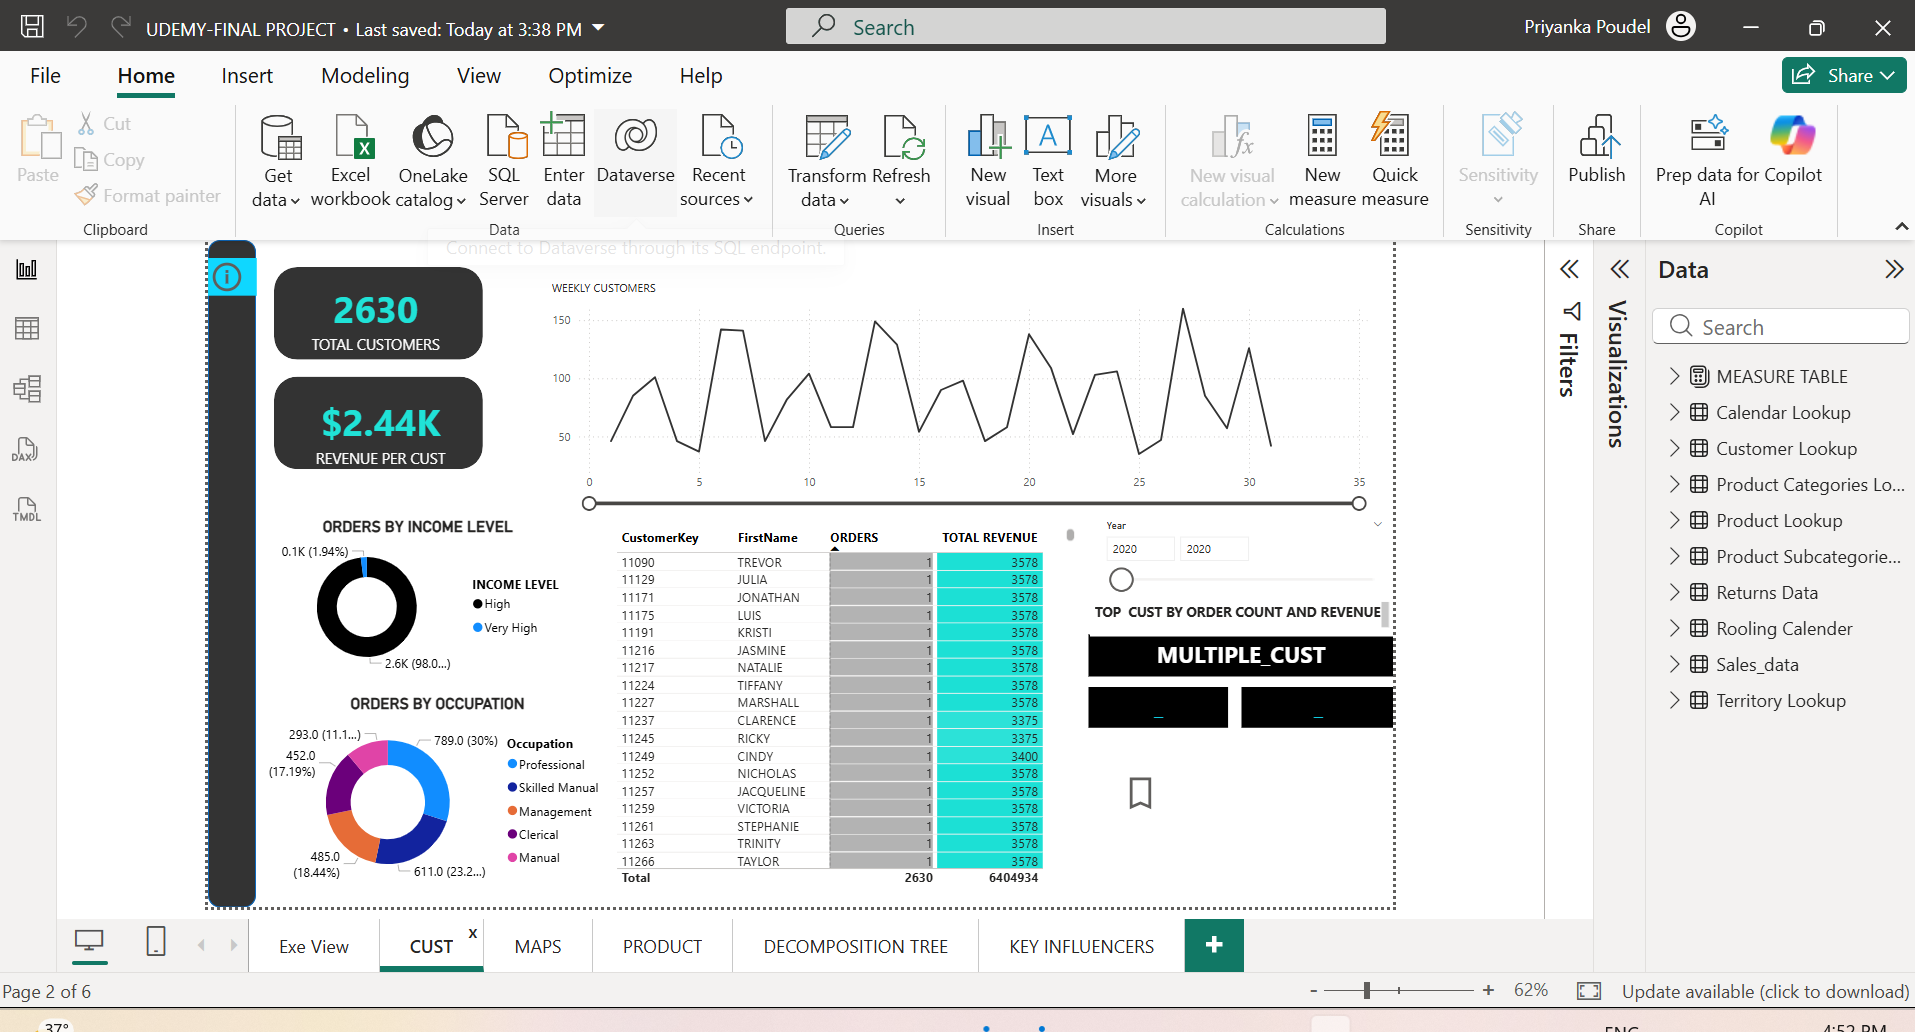

The dashboard page shown, as its layout file describes it:
{"tool":"powerbi","page":{"name":"CUST","canvas":[1280,720],"ordinal":1},"visuals":[{"type":"shape","box":[0,0,51.8,720.4],"z":0},{"type":"shape","box":[71.7,28.4,225.6,100.1],"z":1000},{"type":"shape","box":[71.7,147.9,225.6,100.1],"z":2000},{"type":"card","fields":{"Values":["MEASURE TABLE.TOTAL CUSTOMERS"]},"box":[67.2,19.4,225.6,128.5],"z":3000},{"type":"card","fields":{"Values":["MEASURE TABLE.AVERAGE REVENUE PER CUSTOMER"]},"box":[67.2,128.5,236,156.8],"z":4000},{"type":"lineChart","title":"WEEKLY CUSTOMERS","fields":{"Y":["MEASURE TABLE.TOTAL CUSTOMERS"],"Category":["Calendar Lookup.Start of Week.Variation.Date Hierarchy.Year","Calendar Lookup.Start of Week.Variation.Date Hierarchy.Month","Calendar Lookup.Start of Week.Variation.Date Hierarchy.Day"]},"box":[365.9,43.9,891.2,251.7],"z":5000},{"type":"donutChart","title":"ORDERS BY INCOME LEVEL","fields":{"Y":["MEASURE TABLE.TOTAL ORDERS"],"Category":["Customer Lookup.INCOME LEVEL"]},"box":[52.3,298.8,349.5,173.3],"z":6000},{"type":"donutChart","title":"ORDERS BY OCCUPATION","fields":{"Y":["MEASURE TABLE.TOTAL ORDERS"],"Category":["Customer Lookup.Occupation"]},"box":[59.7,489.9,375.7,212.5],"z":7000},{"type":"tableEx","fields":{"Values":["Customer Lookup.CustomerKey","Customer Lookup.FirstName","MEASURE TABLE.TOTAL ORDERS","MEASURE TABLE.TOTAL REVENUE"]},"box":[436.2,306.2,504.9,395.9],"z":8000},{"type":"card","fields":{"Values":["MEASURE TABLE.CUST NAME(CUSTOMER DETAILS)"]},"box":[951.2,425.9,329.3,45.4],"z":9000},{"type":"card","fields":{"Values":["MEASURE TABLE.TOTAL ORDERS(CUSTOMER DETAILS)"]},"box":[951.2,482.9,150.7,43.9],"z":10000},{"type":"card","fields":{"Values":["MEASURE TABLE.TOTAL REVENUE(CUSTOMER DETAILS)"]},"box":[1115.1,482.9,165.4,43.9],"z":11000},{"type":"textbox","box":[952.7,384.9,327.8,42.4],"z":12000},{"type":"slicer","fields":{"Values":["Calendar Lookup.Date.Variation.Date Hierarchy.Year"]},"box":[957.1,295.6,323.4,89.3],"z":13000},{"type":"actionButton","box":[0,19,52.7,41],"z":14000},{"type":"actionButton","box":[984.4,574.2,158.9,44.4],"z":15000}]}

Visuals, with their boxes on the page's 1280x720 design canvas (x1, y1, x2, y2). These are canvas units, not pixel positions in the 1915x1032 screenshot, which may show the page scaled, cropped or inside an application window:
shape: (x1=0, y1=0, x2=52, y2=720)
shape: (x1=72, y1=28, x2=297, y2=128)
shape: (x1=72, y1=148, x2=297, y2=248)
card - MEASURE TABLE.TOTAL CUSTOMERS: (x1=67, y1=19, x2=293, y2=148)
card - MEASURE TABLE.AVERAGE REVENUE PER CUSTOMER: (x1=67, y1=128, x2=303, y2=285)
"WEEKLY CUSTOMERS" lineChart: (x1=366, y1=44, x2=1257, y2=296)
"ORDERS BY INCOME LEVEL" donutChart: (x1=52, y1=299, x2=402, y2=472)
"ORDERS BY OCCUPATION" donutChart: (x1=60, y1=490, x2=435, y2=702)
tableEx - Customer Lookup.CustomerKey x Customer Lookup.FirstName: (x1=436, y1=306, x2=941, y2=702)
card - MEASURE TABLE.CUST NAME(CUSTOMER DETAILS): (x1=951, y1=426, x2=1280, y2=471)
card - MEASURE TABLE.TOTAL ORDERS(CUSTOMER DETAILS): (x1=951, y1=483, x2=1102, y2=527)
card - MEASURE TABLE.TOTAL REVENUE(CUSTOMER DETAILS): (x1=1115, y1=483, x2=1280, y2=527)
textbox: (x1=953, y1=385, x2=1280, y2=427)
slicer - Calendar Lookup.Date.Variation.Date Hierarchy.Year: (x1=957, y1=296, x2=1280, y2=385)
actionButton: (x1=0, y1=19, x2=53, y2=60)
actionButton: (x1=984, y1=574, x2=1143, y2=619)
